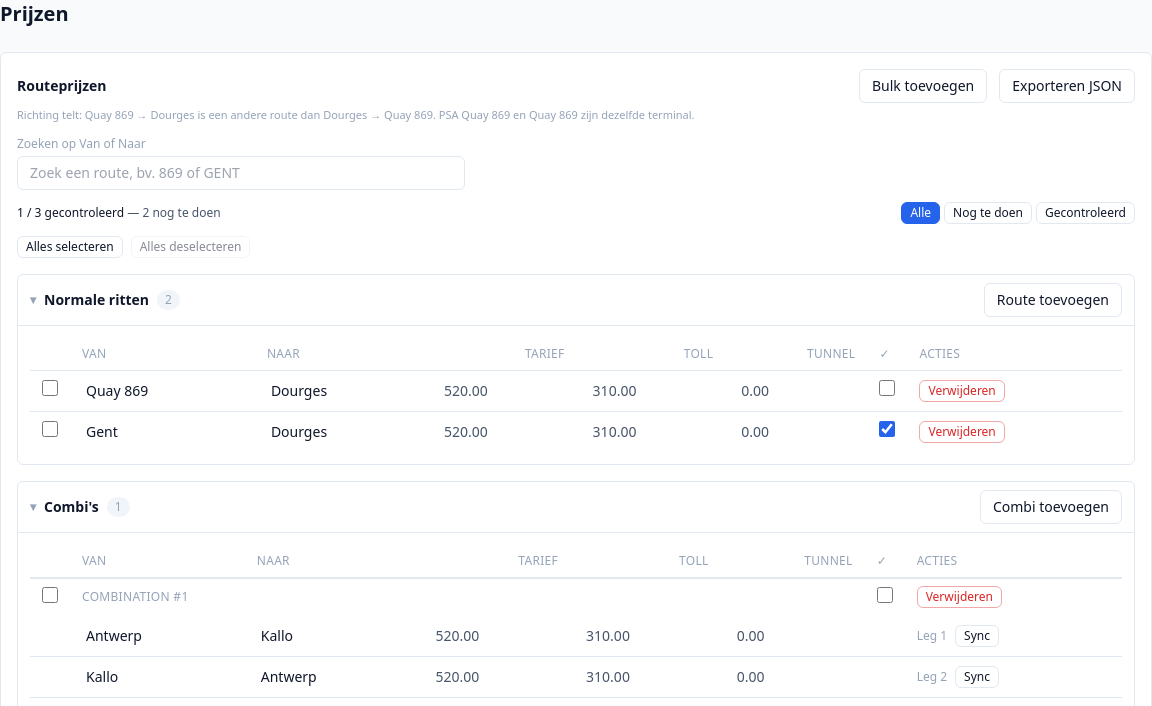
Test: the filter › shows only what has been checked
Check: the button "Quay 869" is shown, box left=82, top=378, right=243, bottom=402
Click the button "Gecontroleerd" at (1086, 212), box left=1036, top=202, right=1135, bottom=224
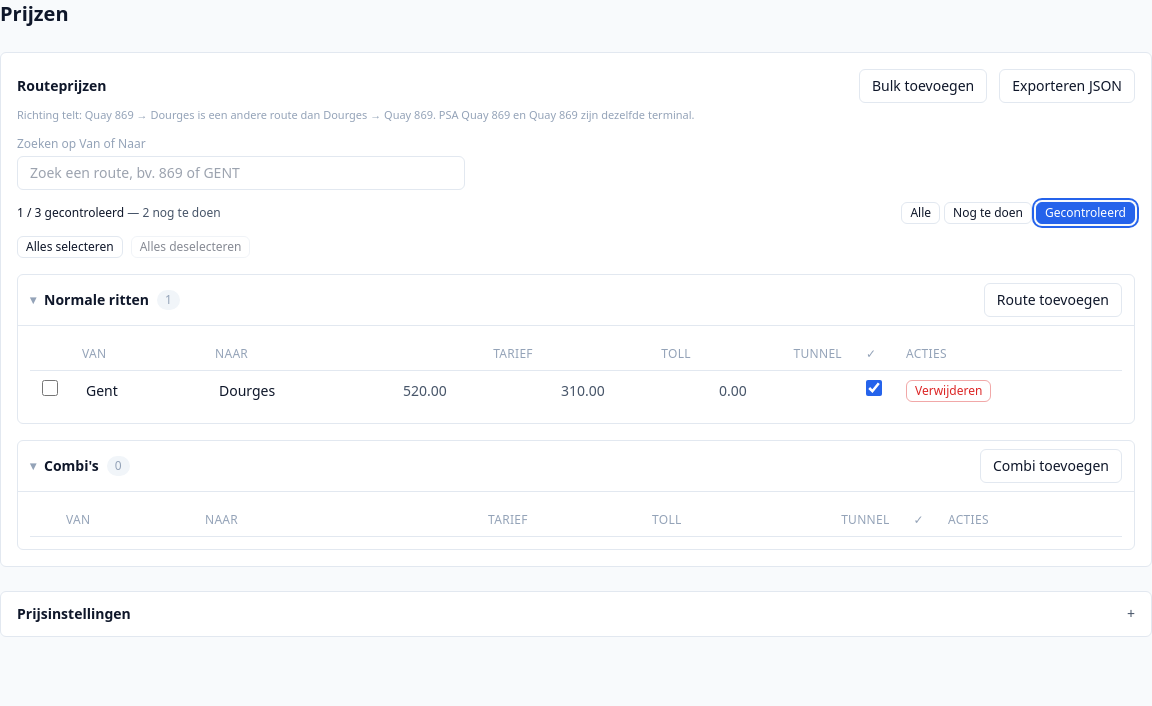
Check: the button "Gent" is shown, box left=82, top=378, right=191, bottom=402
Check: the column heading "Combination #1" is gone
